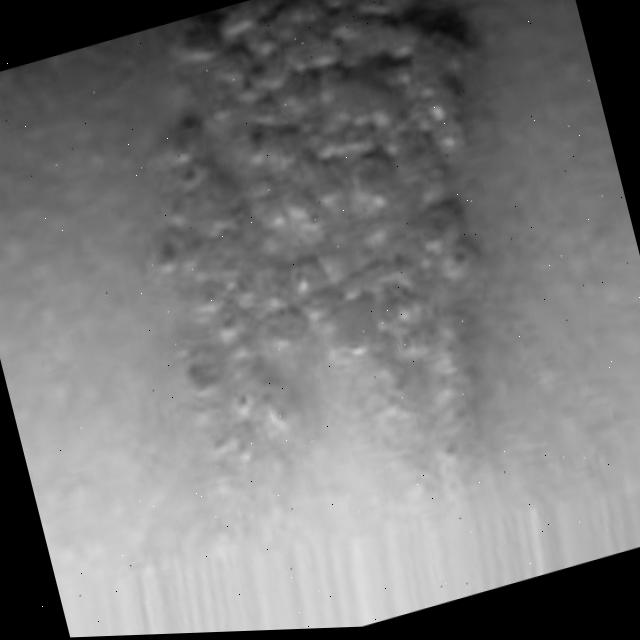Shingles: (131, 0, 521, 497)
